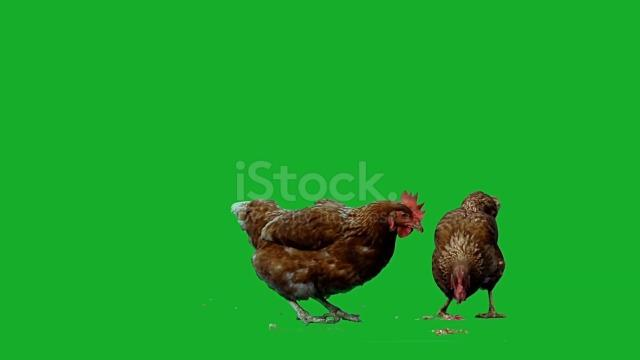Normal: (232, 180, 423, 321), (432, 182, 515, 322)
